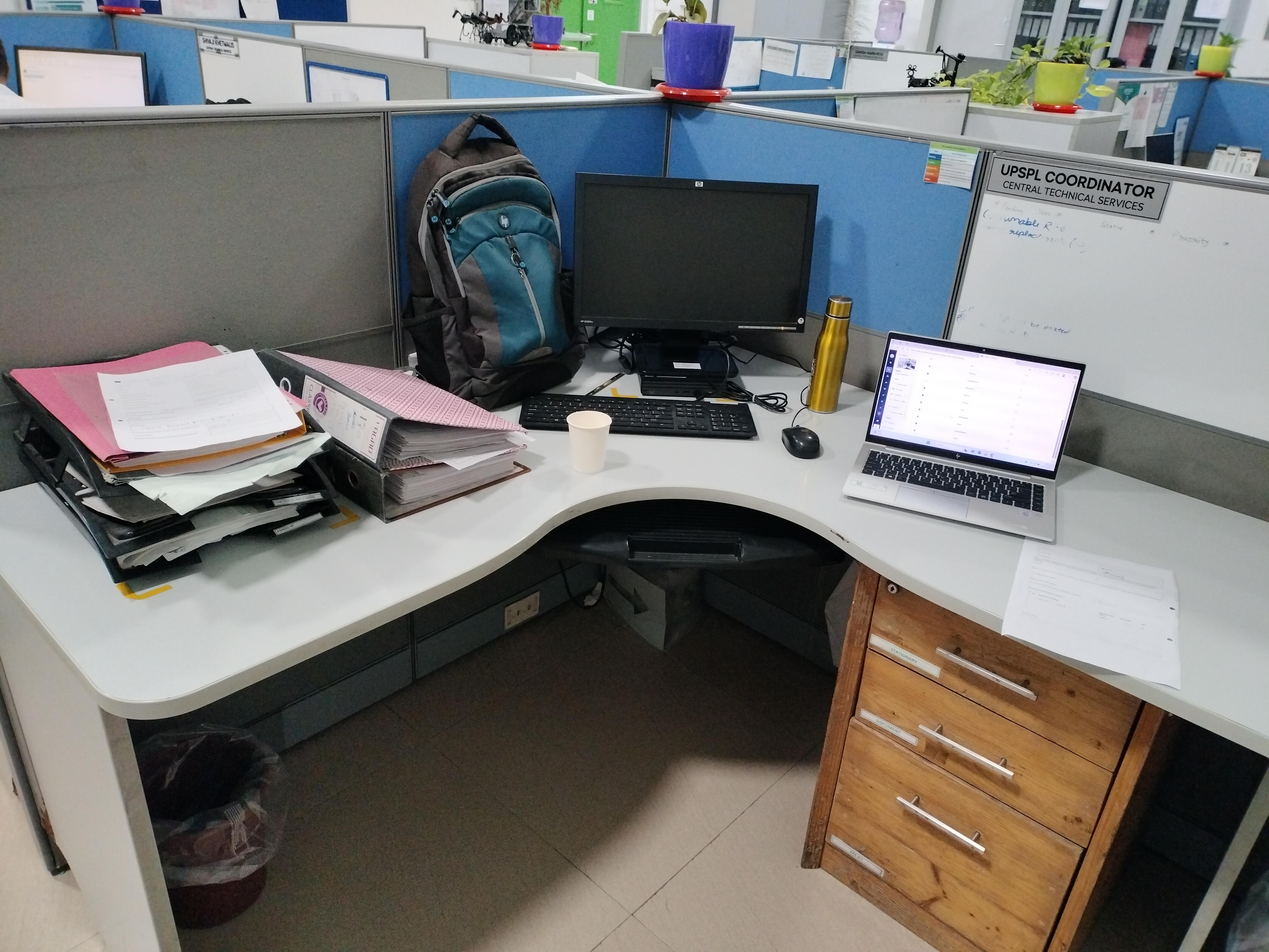StickyNotes: (919, 137, 986, 196)
bag: (390, 111, 582, 399)
bottle: (801, 290, 859, 417)
desktop: (568, 167, 820, 383)
file: (256, 343, 535, 529)
filetray: (1, 338, 350, 588)
keyboard: (517, 391, 762, 441)
laptop: (836, 326, 1089, 544)
mouse: (778, 424, 824, 464)
mug: (564, 406, 615, 478)
nameplate: (985, 152, 1175, 224)
page: (988, 521, 1190, 698)
vase: (653, 17, 737, 106)
